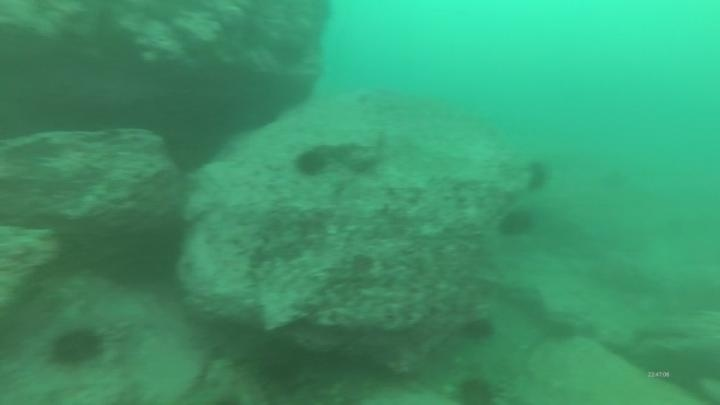echinus: (251, 333, 306, 388), (46, 325, 105, 370), (496, 206, 537, 241), (452, 374, 499, 404), (268, 36, 308, 70), (292, 146, 330, 180), (522, 157, 554, 195), (459, 314, 497, 345)
